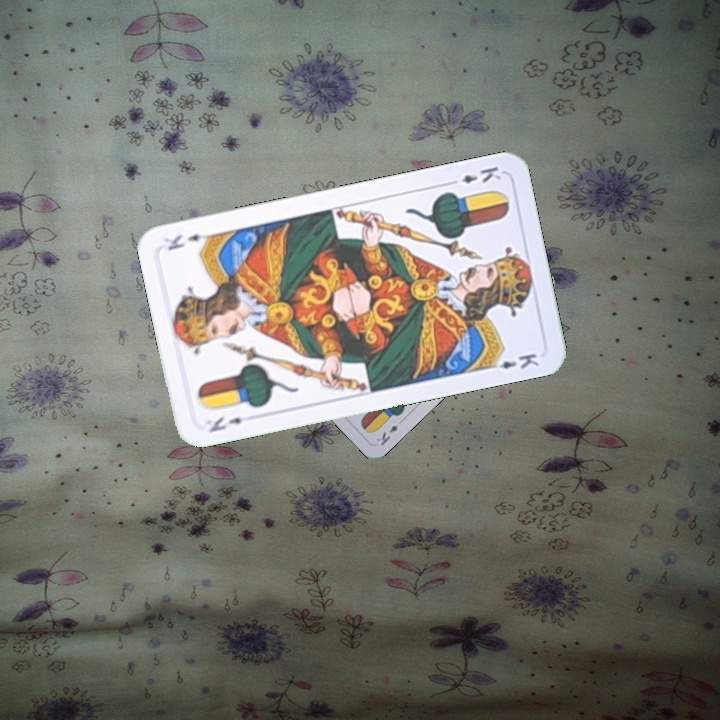EK: (444, 162, 504, 188), (205, 412, 245, 435), (372, 421, 400, 448)
